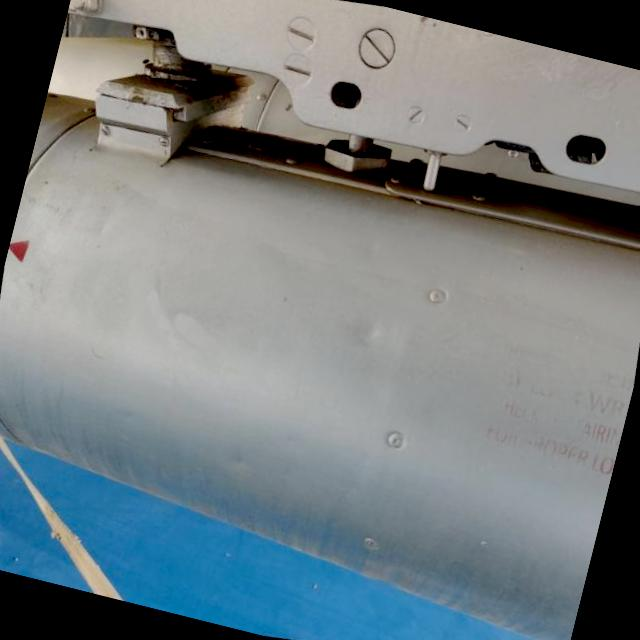dent: (333, 297, 414, 370)
